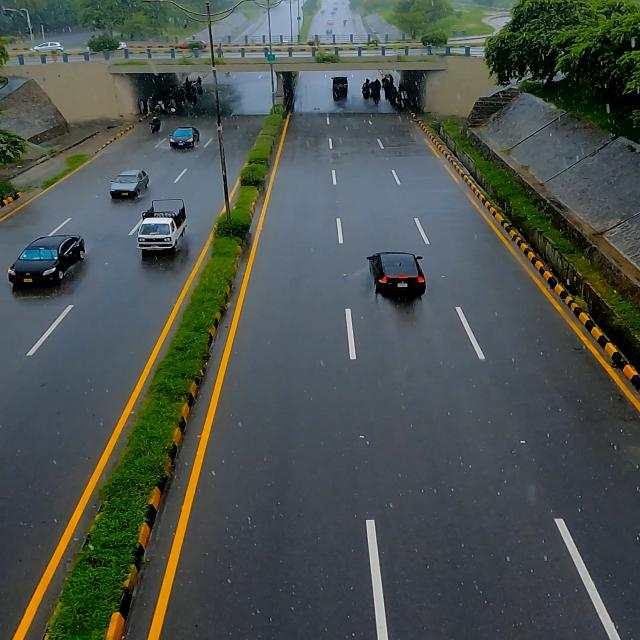Vehicle: (3, 230, 89, 296), (129, 199, 194, 262), (360, 248, 425, 304), (104, 165, 157, 206), (163, 123, 203, 157)
